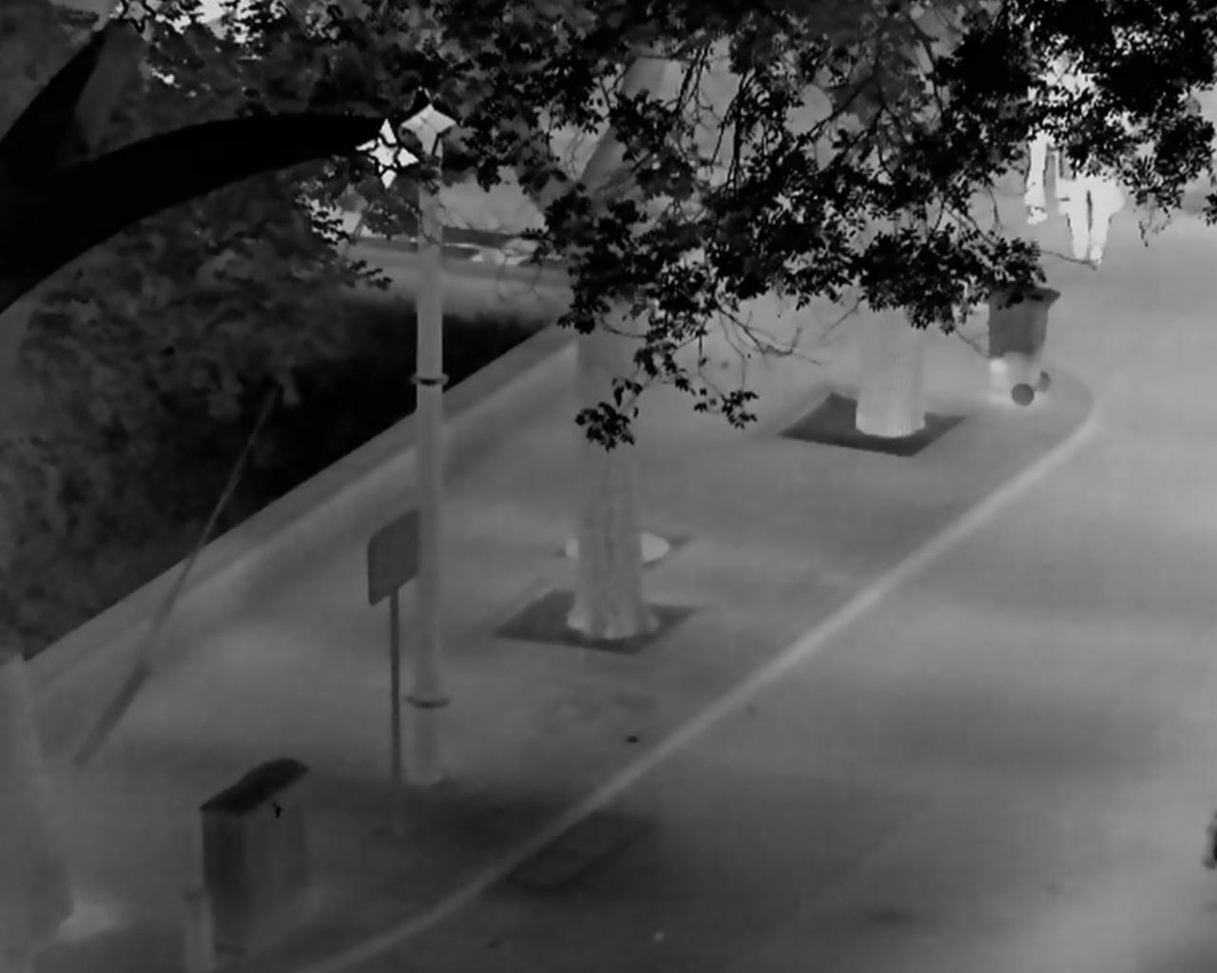person: (1067, 89, 1116, 265), (1024, 69, 1072, 221)
